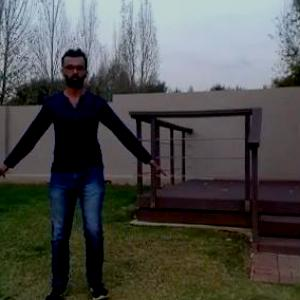land: (0, 49, 173, 299)
